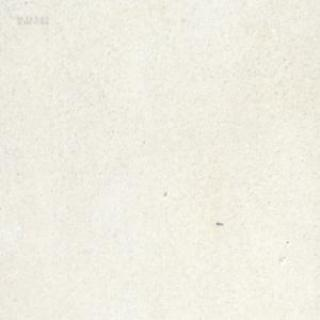Nailtrack_idkeyframe: (215, 219, 222, 225)
